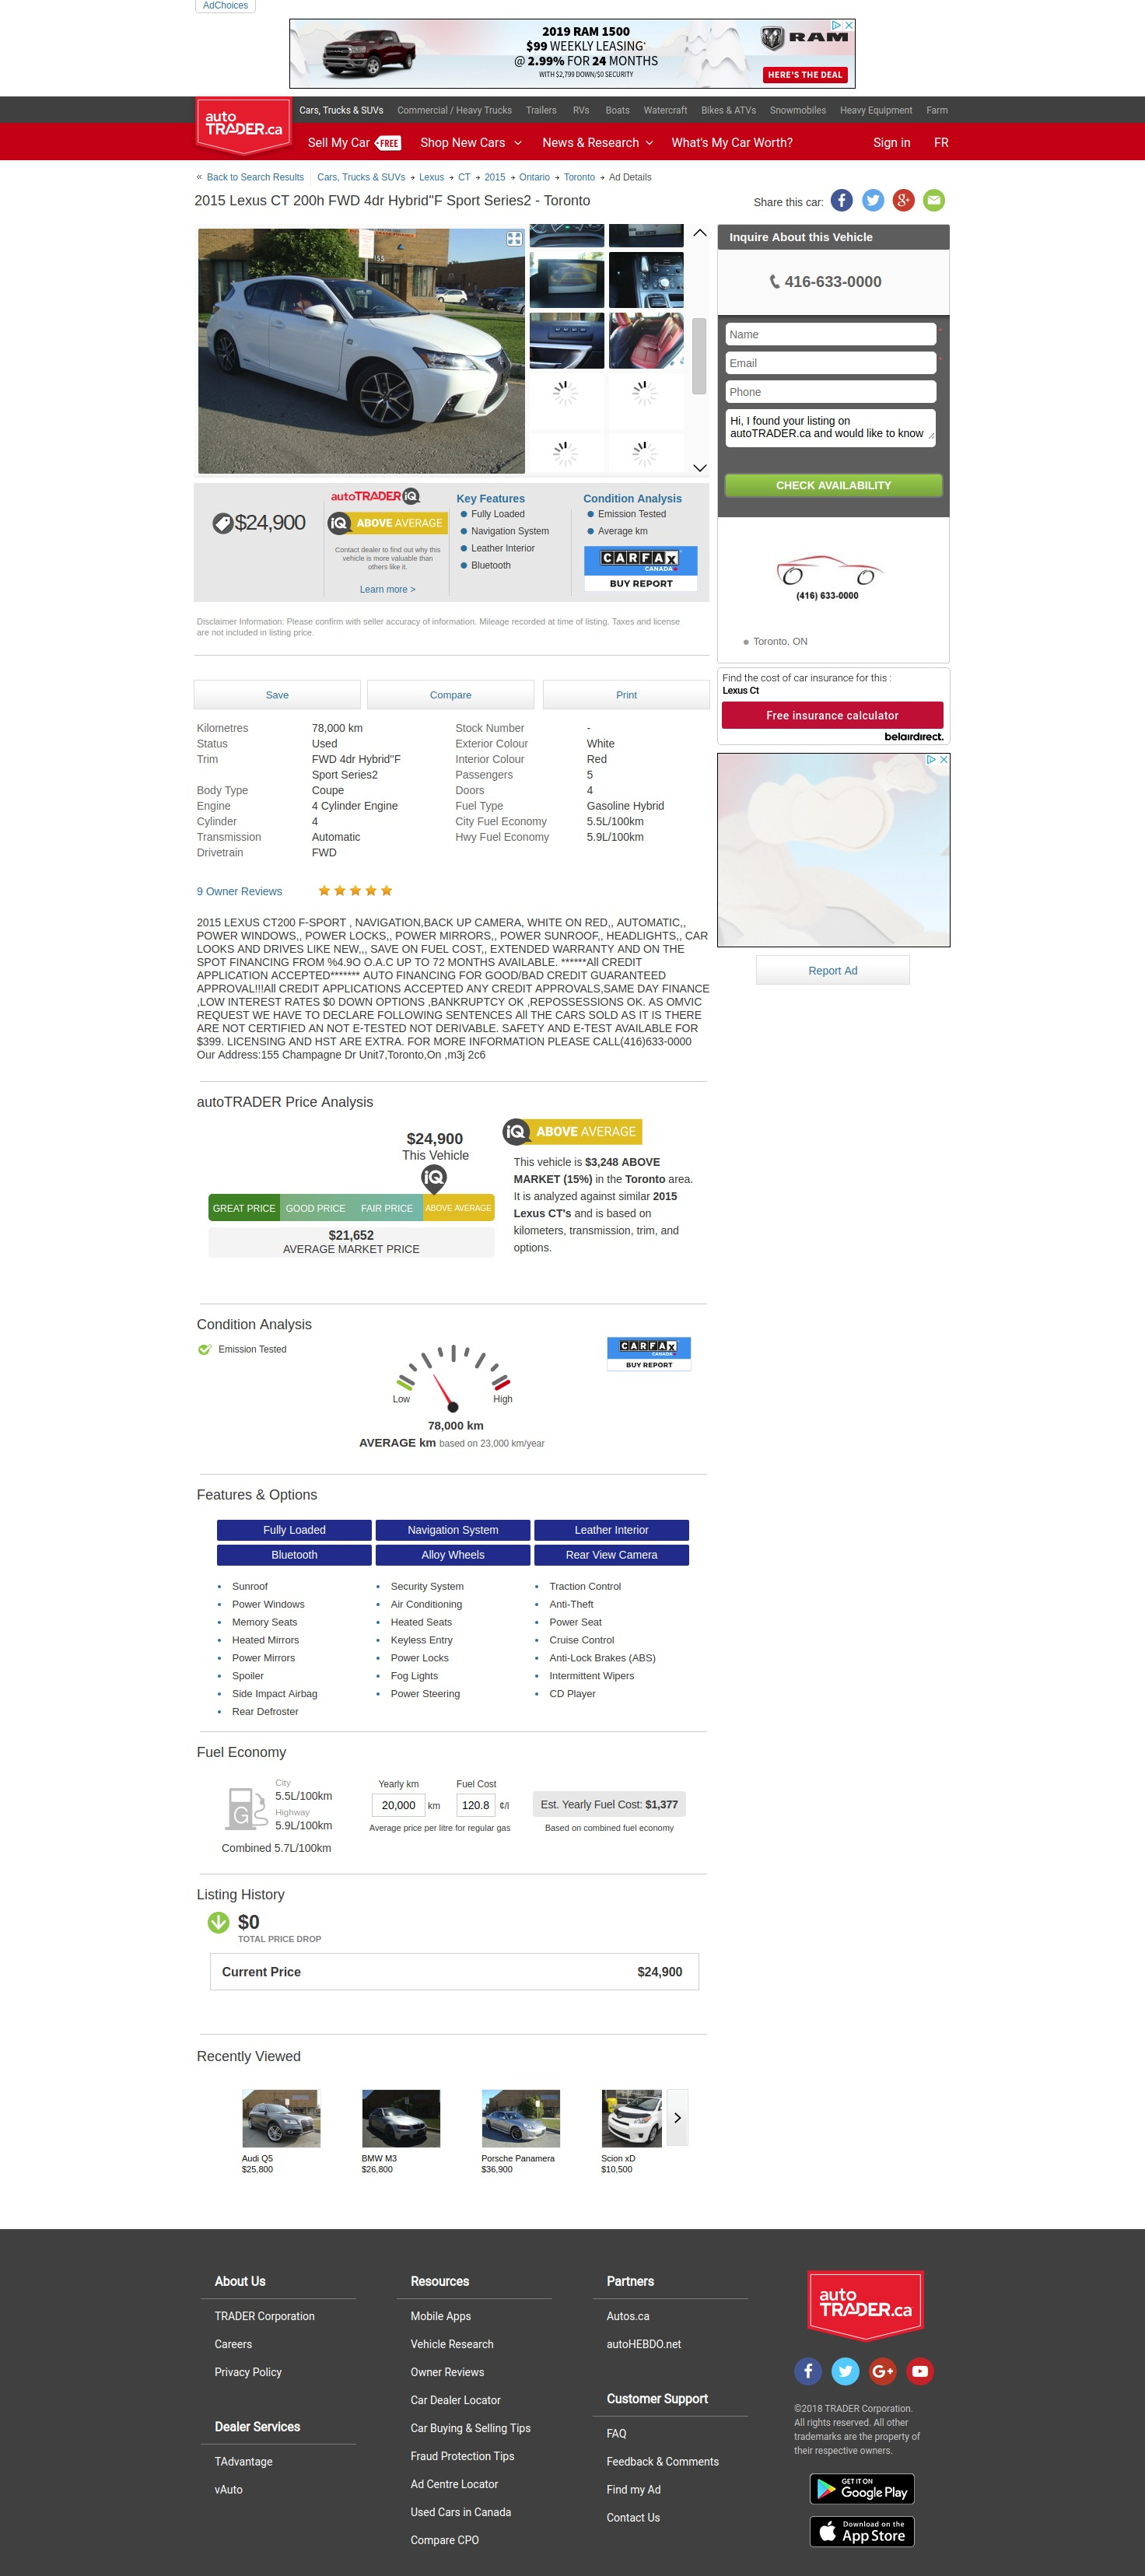car: (693, 462, 708, 475)
